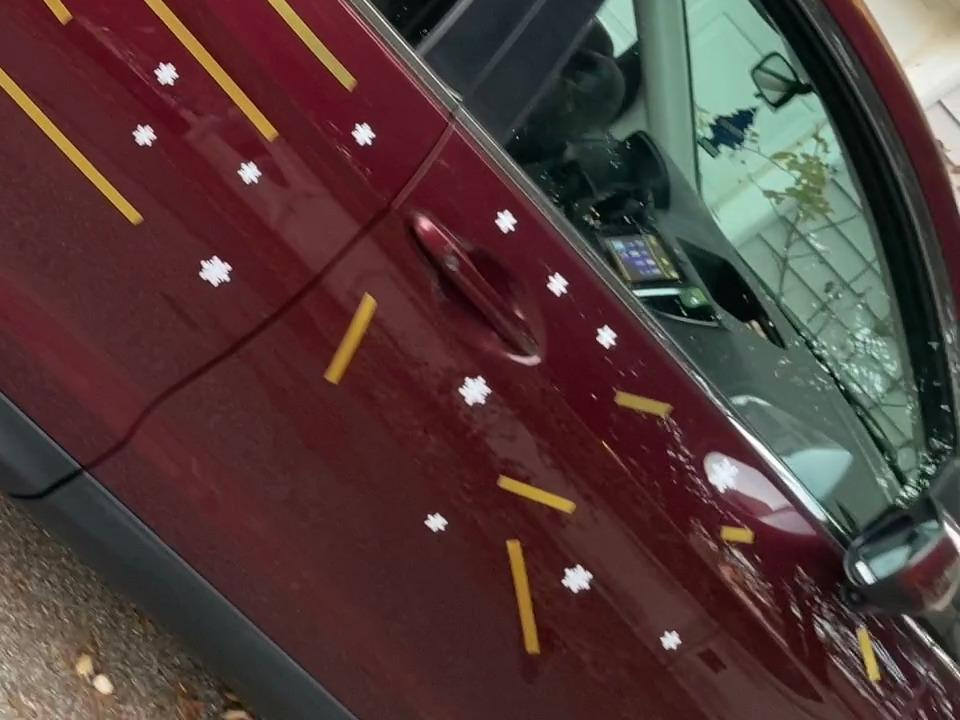dent: (194, 251, 240, 293), (458, 370, 496, 412), (558, 559, 597, 599), (128, 120, 161, 152), (491, 205, 522, 239), (152, 57, 181, 93), (234, 157, 266, 189), (349, 117, 378, 148), (543, 268, 571, 300), (422, 506, 451, 535), (593, 321, 620, 352), (657, 625, 685, 651)
scratch: (0, 36, 147, 229), (126, 0, 283, 145), (146, 0, 359, 97), (317, 287, 381, 386), (503, 536, 544, 659), (495, 468, 580, 516), (610, 386, 678, 423), (850, 620, 884, 687), (0, 0, 75, 27), (715, 519, 758, 551)
